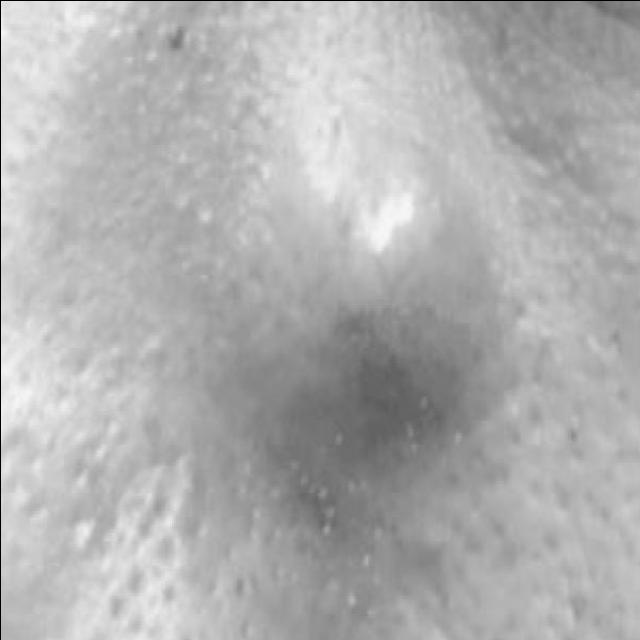nodule: (266, 85, 495, 464)
